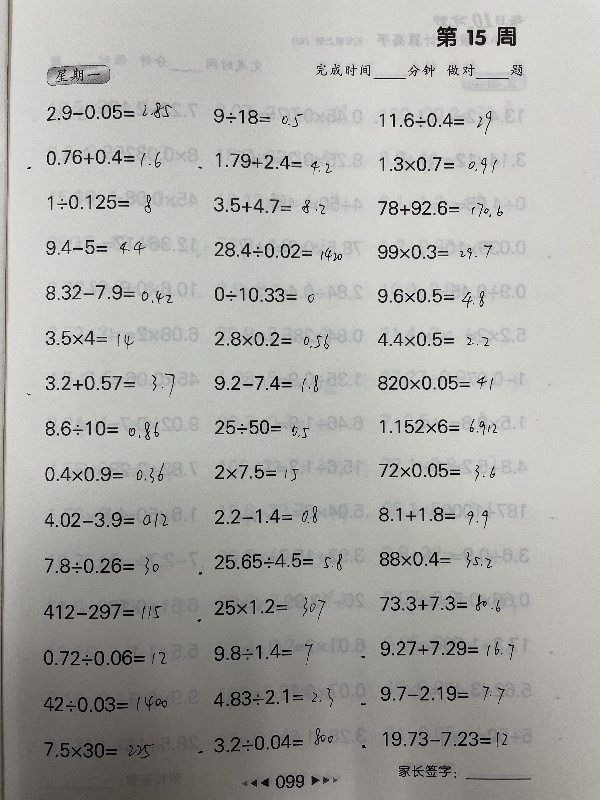equation: (375, 635, 520, 666), (376, 588, 511, 620), (207, 724, 340, 756), (41, 371, 181, 401), (382, 725, 511, 757), (375, 681, 510, 711), (211, 549, 350, 578), (40, 458, 173, 488), (211, 594, 328, 628), (39, 598, 165, 629), (39, 689, 173, 718), (375, 106, 495, 138), (42, 507, 172, 536), (42, 97, 175, 125), (374, 458, 501, 487), (374, 542, 502, 570), (211, 413, 334, 442), (40, 279, 175, 305), (37, 645, 171, 670), (42, 554, 166, 581), (40, 415, 162, 442), (210, 237, 345, 261), (211, 503, 322, 532), (373, 195, 505, 219), (374, 501, 491, 528), (210, 368, 322, 396), (210, 688, 340, 712), (40, 738, 155, 765), (211, 149, 335, 174), (41, 144, 164, 169), (211, 455, 307, 487), (211, 641, 315, 670), (374, 151, 499, 175), (375, 413, 499, 437), (43, 190, 156, 216), (210, 326, 332, 350), (372, 283, 487, 308), (209, 193, 327, 217), (373, 327, 492, 350), (373, 370, 496, 392), (373, 240, 495, 262), (41, 234, 148, 258), (209, 282, 318, 305), (41, 325, 138, 350), (208, 105, 305, 128)
